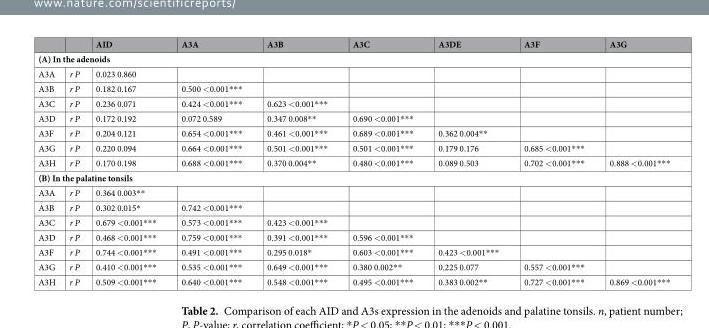table: (37, 37, 669, 288)
table column: (253, 37, 339, 288), (339, 37, 425, 288), (510, 37, 596, 288), (168, 37, 253, 288), (425, 37, 510, 288), (86, 37, 168, 288), (596, 37, 669, 288), (61, 37, 86, 288), (37, 37, 61, 288)
table column header: (37, 37, 669, 50)
table projected row header: (37, 50, 669, 65), (37, 170, 669, 184)
table row: (37, 50, 669, 65), (37, 65, 669, 80), (37, 80, 669, 95), (37, 95, 669, 110), (37, 110, 669, 125), (37, 125, 669, 140), (37, 140, 669, 155), (37, 155, 669, 170), (37, 184, 669, 199), (37, 199, 669, 214), (37, 214, 669, 229), (37, 229, 669, 244), (37, 244, 669, 259), (37, 259, 669, 274), (37, 170, 669, 184), (37, 274, 669, 288), (37, 37, 669, 50)
